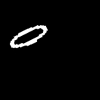chain: (10, 26, 46, 47)
